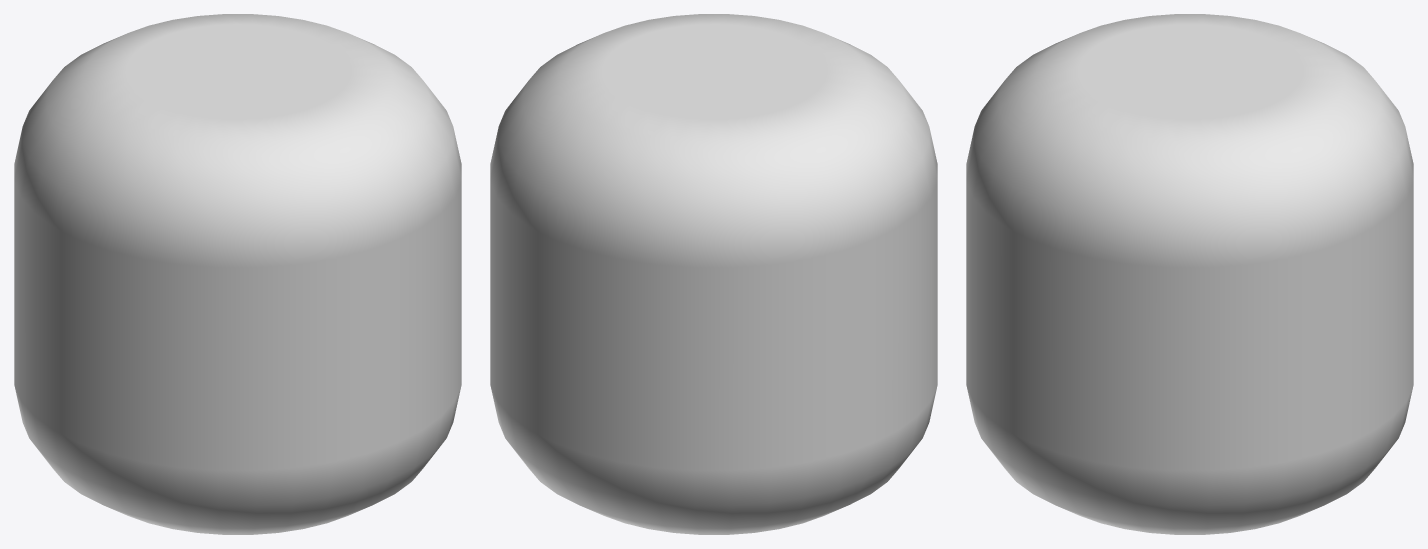
File: 01-Digital-Face-face.glb
The picture shows the model from 3 angles, left to right: view 1: azimuth 30°, elevation 25°; view 2: azimuth 150°, elevation 25°; view 3: azimuth 270°, elevation 25°; orthographic projection.
Visible parts, largest first — view 1: 01-Digital-Face-face; view 2: 01-Digital-Face-face; view 3: 01-Digital-Face-face.
Part boxes in pixels (left/top/right/bottom): 01-Digital-Face-face: left=14, top=14, right=461, bottom=534; 01-Digital-Face-face: left=490, top=14, right=937, bottom=534; 01-Digital-Face-face: left=966, top=14, right=1413, bottom=534.
Size of the model in its own units: 1.2 by 1.2 by 1.2.
Materials: 1 (1 with a texture image).
